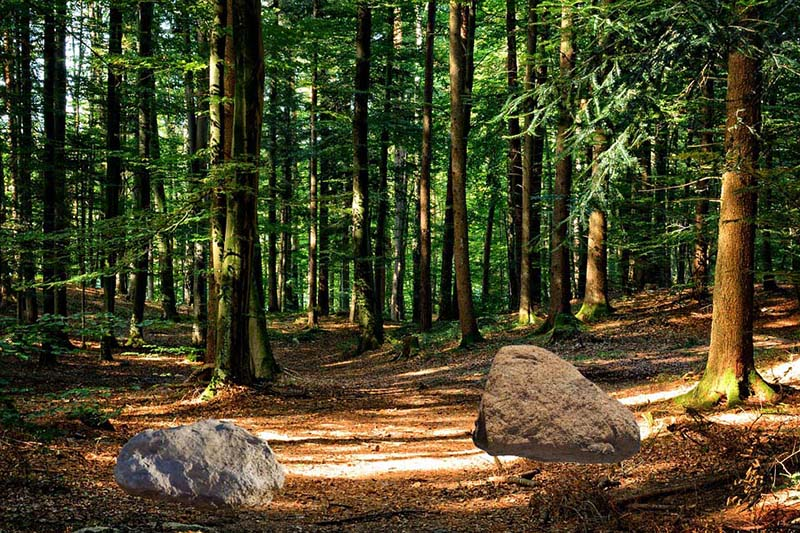Rocks: (467, 339, 645, 472), (100, 415, 294, 510)
